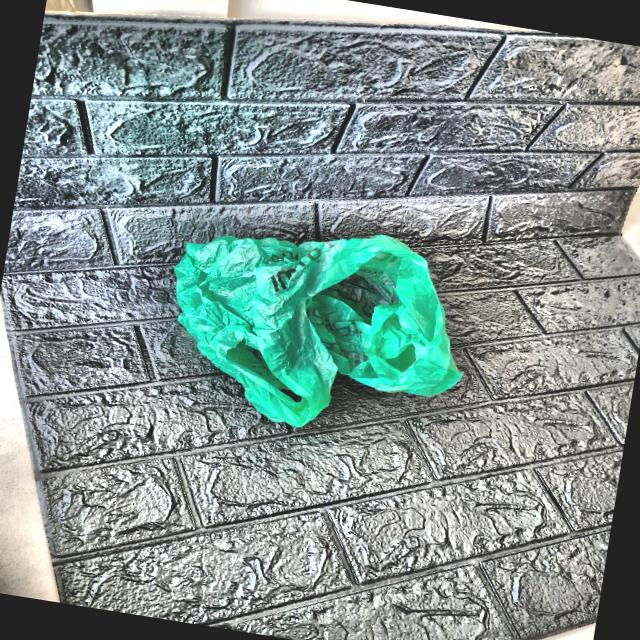plastic bag: (150, 202, 478, 440)
